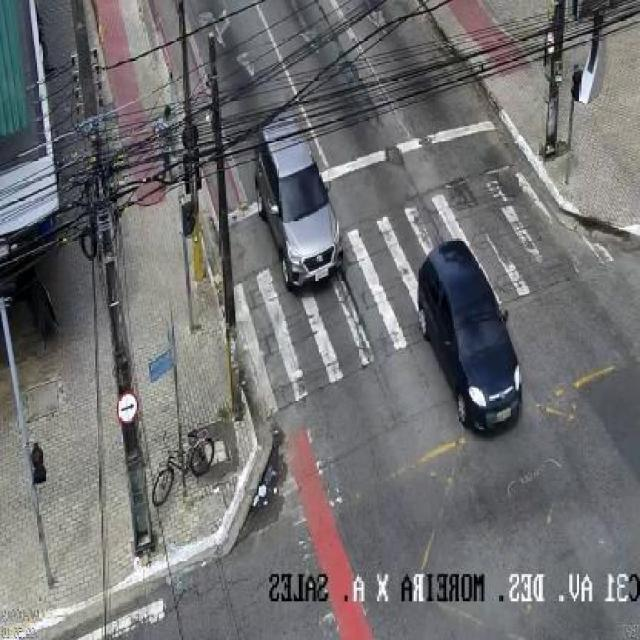Car: (412, 240, 522, 444), (260, 110, 350, 290)
